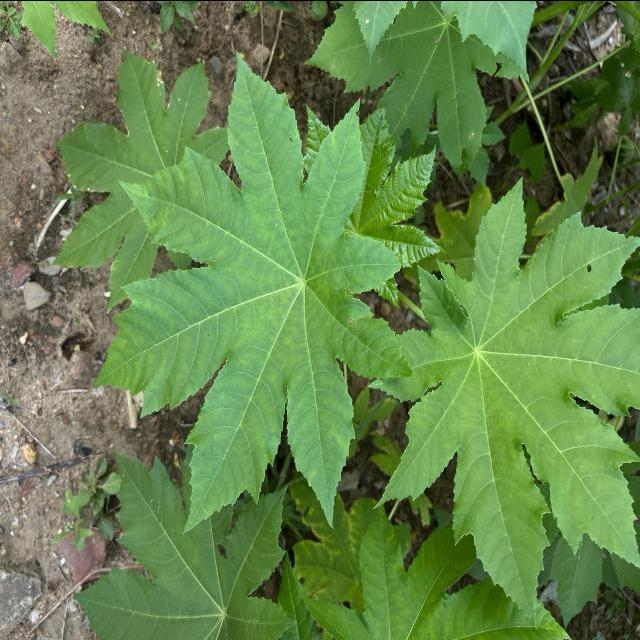Ricinus communis linn: (89, 45, 419, 538), (370, 172, 640, 630)
